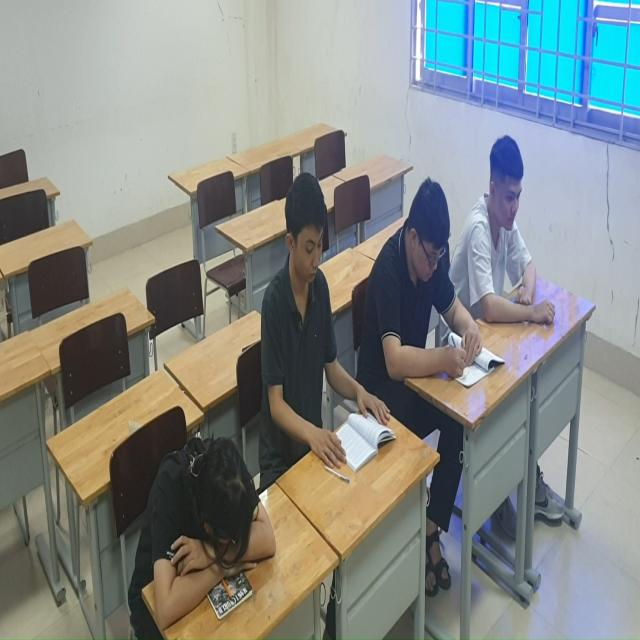read: (260, 173, 399, 481), (454, 129, 568, 350), (394, 177, 500, 392)
sleep: (124, 439, 280, 636)
